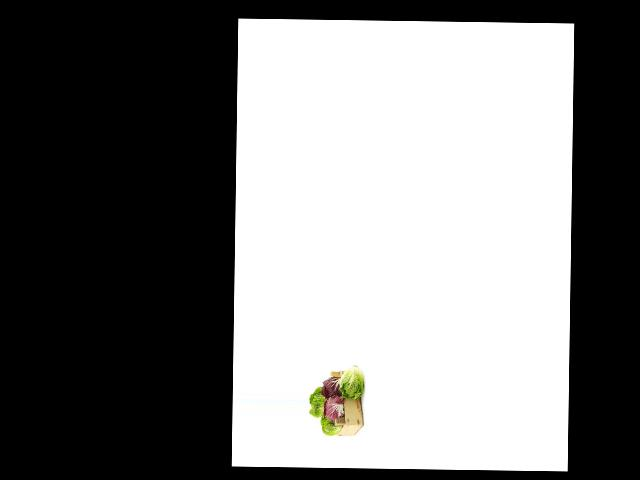lettuce: (308, 386, 330, 417)
